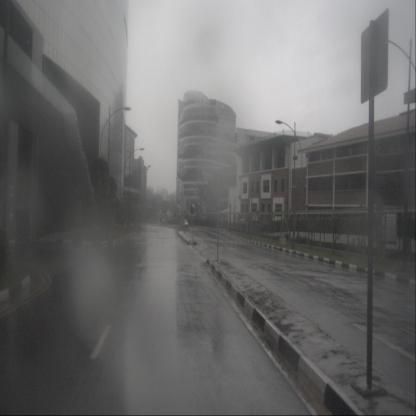vehicle-car: (180, 219, 188, 228)
